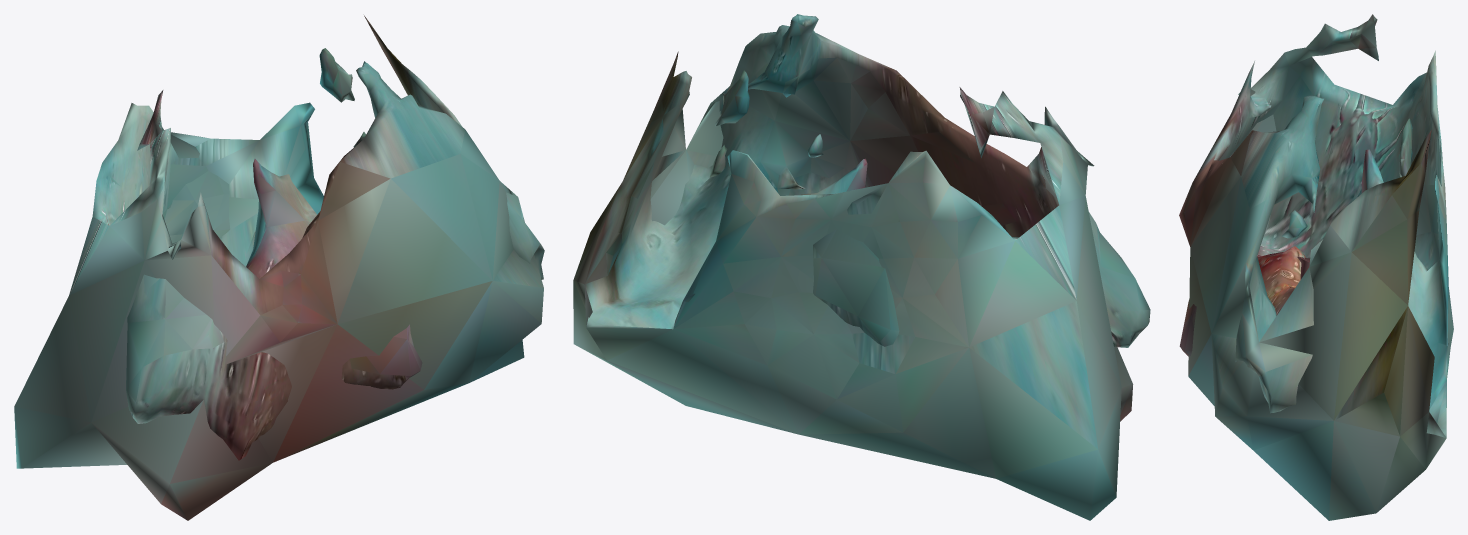
Rendered from killmegamouth.glb.
3 renders of one model, left to right at view 1: azimuth 30°, elevation 25°; view 2: azimuth 150°, elevation 25°; view 3: azimuth 270°, elevation 25°, orthographic. The views are drawn at different scales.
Visible parts, largest first — view 1: killmegamouth; view 2: killmegamouth; view 3: killmegamouth.
Part boxes in pixels (<box>): killmegamouth: <box>14,15,544,520</box>; killmegamouth: <box>573,14,1150,520</box>; killmegamouth: <box>1179,14,1453,520</box>.
Size of the model in its own units: 11.4 by 7.95 by 5.41.
1 material, 1 textured.
